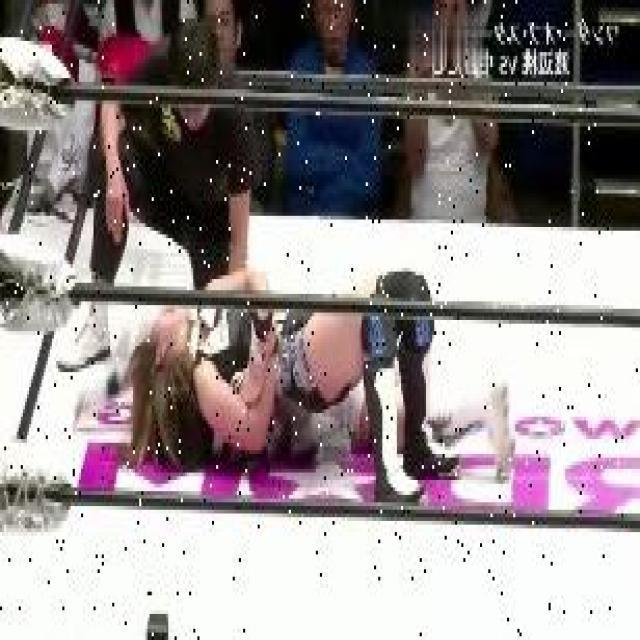fall: (162, 249, 445, 476)
